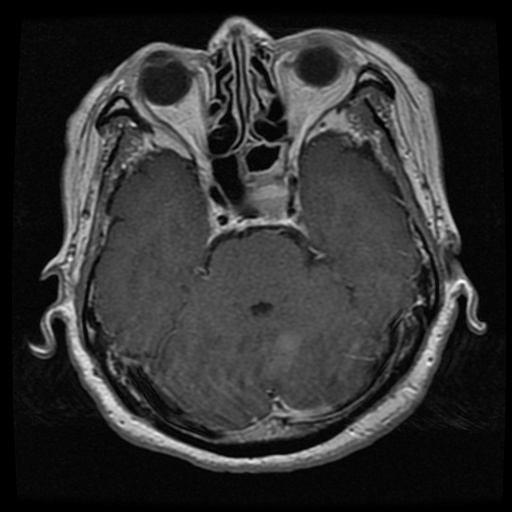pituitary: (249, 185, 286, 219)
